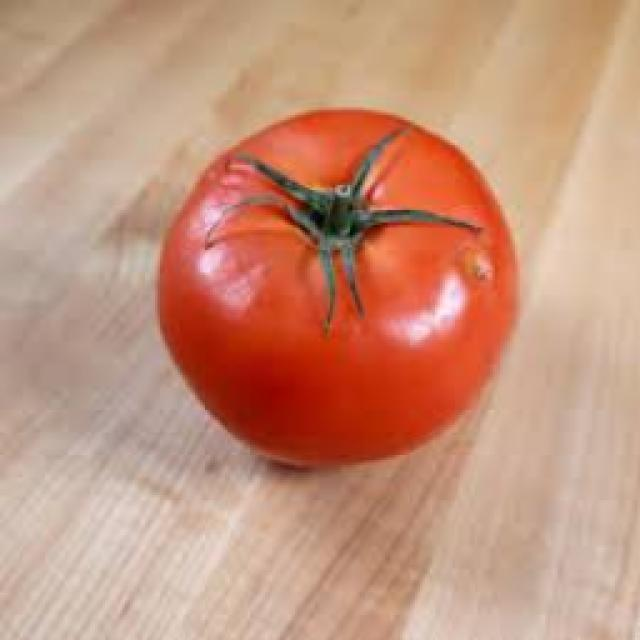ripe tomato: (146, 74, 502, 496)
